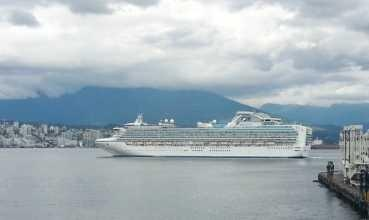youlun: (94, 111, 311, 159)
